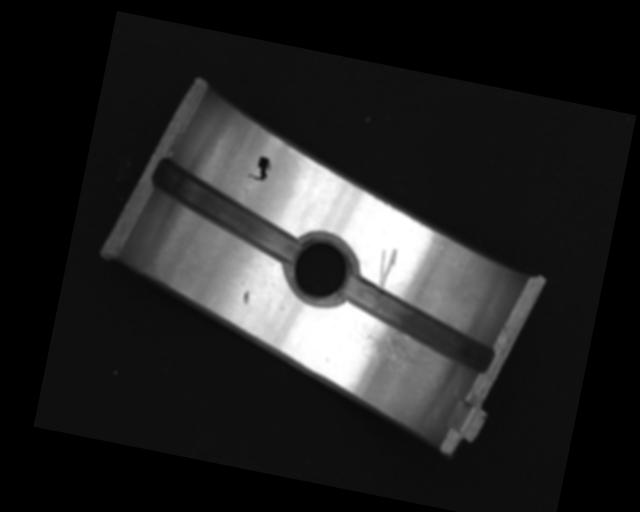blot: (247, 153, 274, 183)
bruise: (241, 288, 251, 306)
gap: (141, 158, 310, 264), (334, 274, 502, 373)
hole: (279, 227, 362, 310)
nick: (374, 246, 399, 292)
scratch: (345, 320, 448, 388)
